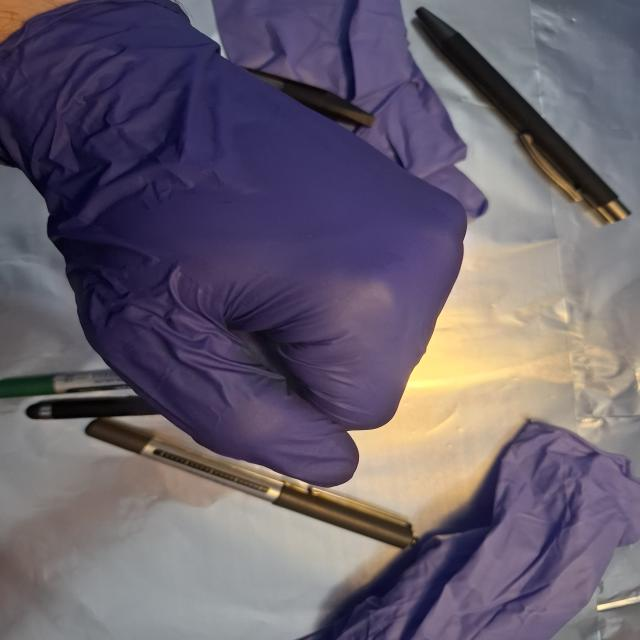glove_on: (0, 0, 476, 494)
